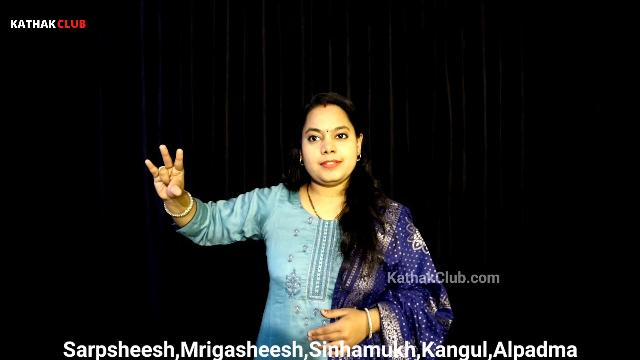kangul: (140, 134, 207, 224)
